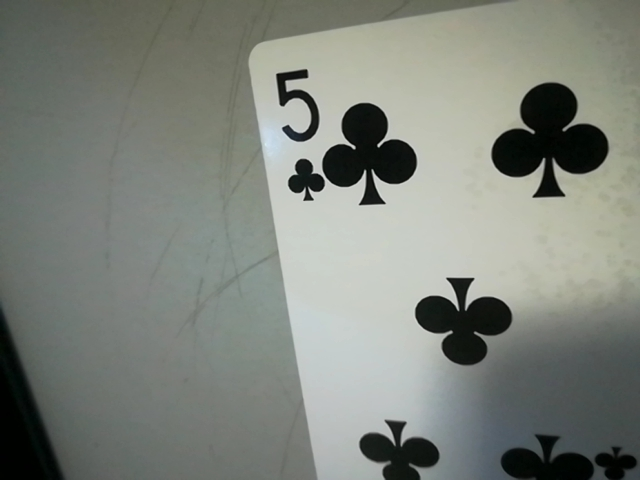mh 5: (262, 59, 326, 210)
